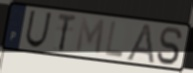A: (124, 22, 156, 65)
L: (104, 19, 125, 59)
M: (74, 16, 106, 57)
S: (155, 26, 184, 67)
T: (56, 12, 78, 53)
U: (23, 9, 53, 49)
